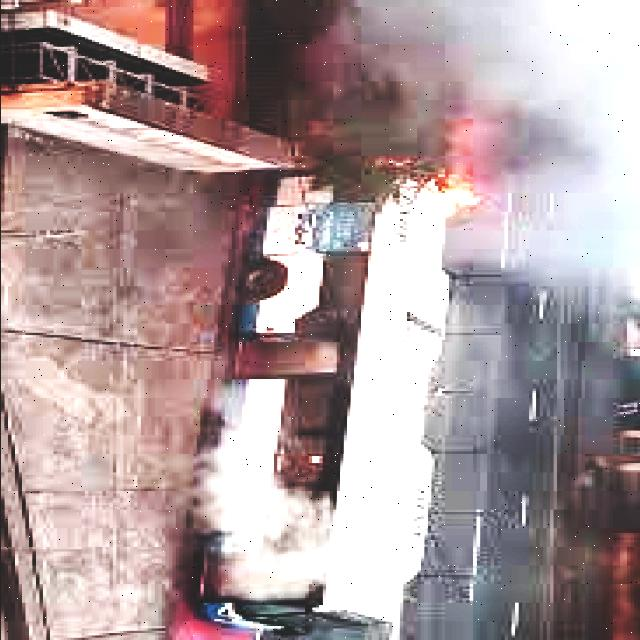api: (407, 169, 501, 225)
